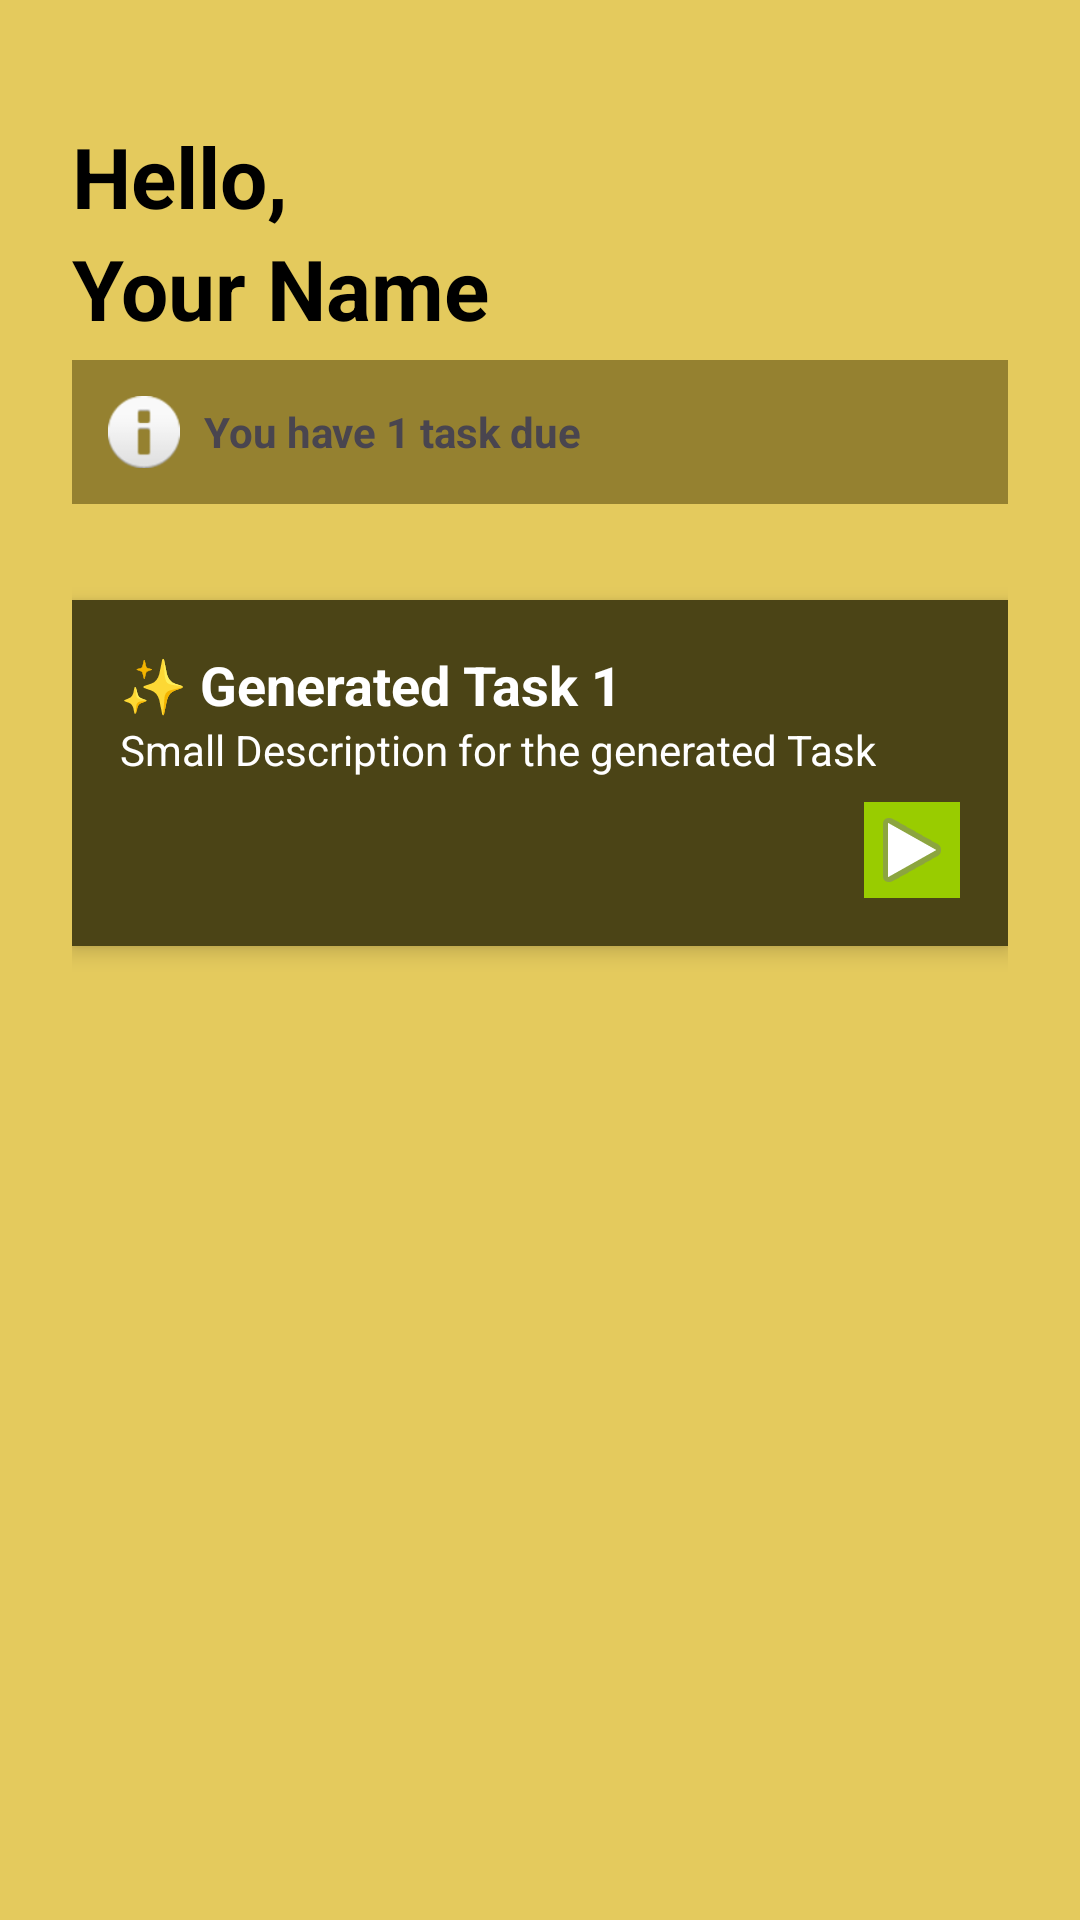

Icons on this 1080w x 1920h Android screen, each with its box as (x1,y1,x2,y2):
info: (108,396,180,468)
Start Task: (864,802,960,898)
